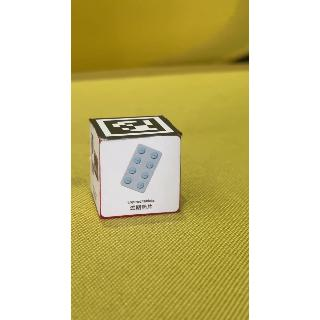Tablet: (102, 137, 180, 217)
